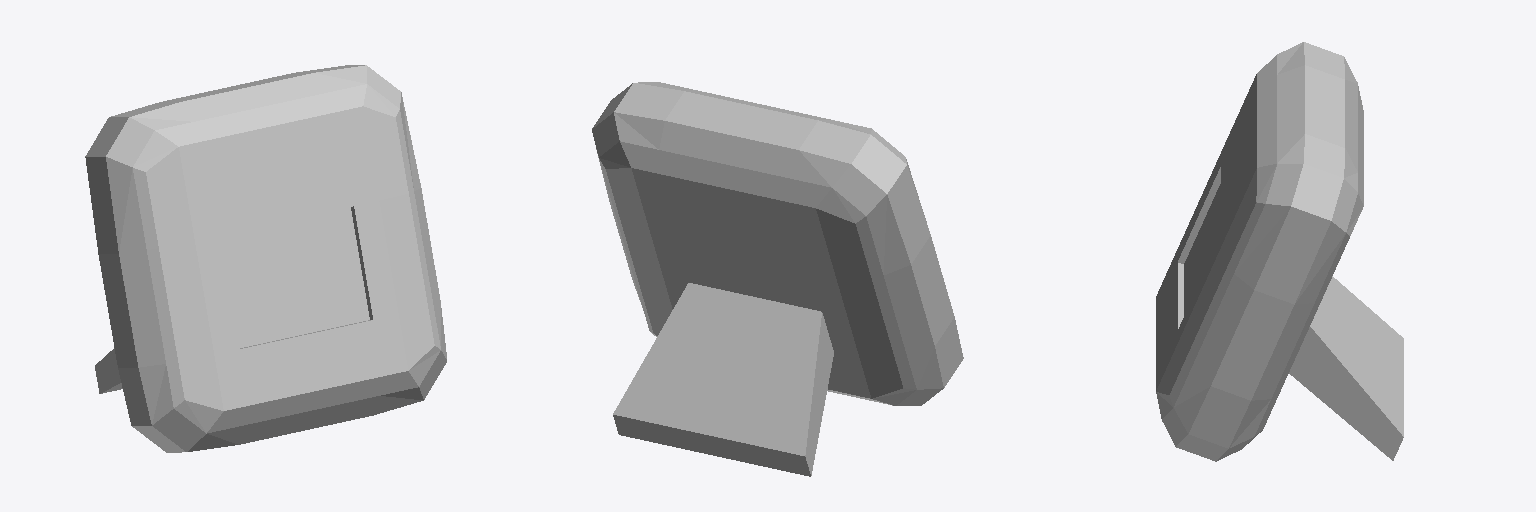
Rendered from timer.obj.
3 renders of one model, left to right at view 1: azimuth 30°, elevation 25°; view 2: azimuth 150°, elevation 25°; view 3: azimuth 270°, elevation 25°, orthographic.
Visible parts, largest first — view 1: Group20556; view 2: Group20556; view 3: Group20556.
Part boxes in pixels (x1,y1,x2,y2): Group20556: (85,65,446,452); Group20556: (592,82,963,476); Group20556: (1156,42,1403,461).
Size of the model in its own units: 0.4562 by 0.4578 by 0.3213.